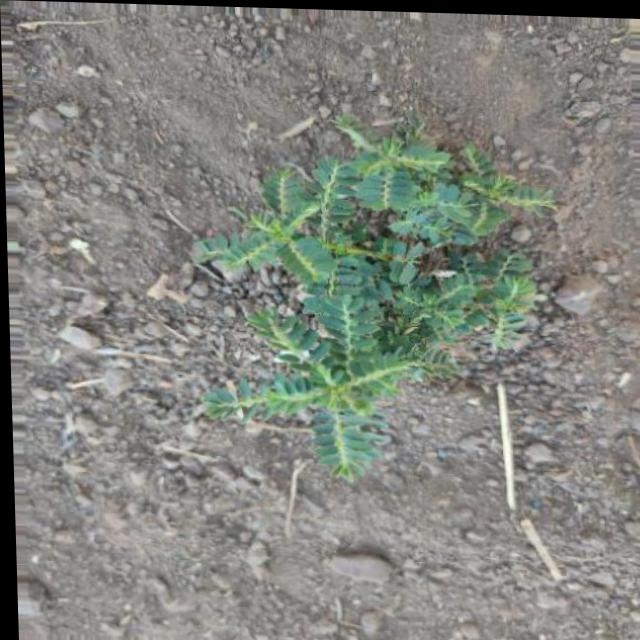weed: (205, 101, 579, 491)
